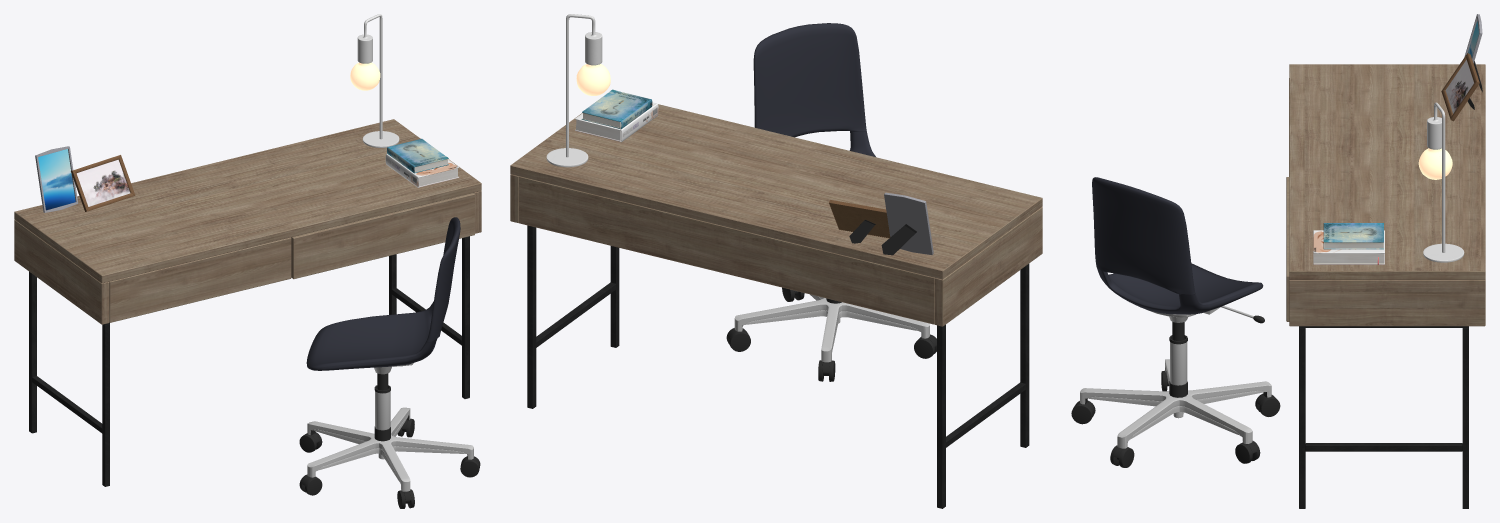
The model's file is Desk.fbx.
The picture shows the model from 3 angles, left to right: view 1: azimuth 30°, elevation 25°; view 2: azimuth 150°, elevation 25°; view 3: azimuth 270°, elevation 25°; orthographic projection. The views are drawn at different scales.
Visible parts, largest first — view 1: Desk, Office-Chair, Desk-Door_02, Desk-Door_01, Photography_Type1, Photography_Type2, Table-Lamp, Book-Type2, Book-Type1, Lamp-Decorative_03; view 2: Desk, Office-Chair, Photography_Type2, Table-Lamp, Photography_Type1, Book-Type2, Book-Type1, Lamp-Decorative_03; view 3: Desk, Office-Chair, Table-Lamp, Book-Type2, Photography_Type1, Book-Type1, Lamp-Decorative_03, Desk-Door_01, Photography_Type2.
Part boxes in pixels (x1,y1,x2,y2): Desk: [14, 119, 481, 486]; Office-Chair: [299, 217, 480, 508]; Desk-Door_02: [109, 237, 291, 322]; Desk-Door_01: [291, 193, 474, 279]; Photography_Type1: [71, 155, 135, 211]; Photography_Type2: [35, 146, 78, 212]; Table-Lamp: [357, 14, 399, 147]; Book-Type2: [387, 138, 448, 173]; Book-Type1: [385, 154, 459, 187]; Lamp-Decorative_03: [350, 62, 380, 90]; Desk: [510, 104, 1042, 508]; Office-Chair: [726, 23, 936, 381]; Photography_Type2: [881, 192, 933, 255]; Table-Lamp: [546, 14, 602, 167]; Photography_Type1: [829, 200, 890, 243]; Book-Type2: [581, 89, 652, 129]; Book-Type1: [575, 102, 658, 142]; Lamp-Decorative_03: [576, 64, 610, 95]; Desk: [1289, 64, 1485, 508]; Office-Chair: [1071, 177, 1280, 467]; Table-Lamp: [1423, 102, 1464, 262]; Book-Type2: [1323, 223, 1383, 249]; Photography_Type1: [1441, 53, 1479, 121]; Book-Type1: [1313, 230, 1384, 264]; Lamp-Decorative_03: [1418, 148, 1452, 179]; Desk-Door_01: [1286, 177, 1289, 321]; Photography_Type2: [1464, 14, 1482, 92].
Size of the model in its own units: 1500 by 1296 by 1266.
